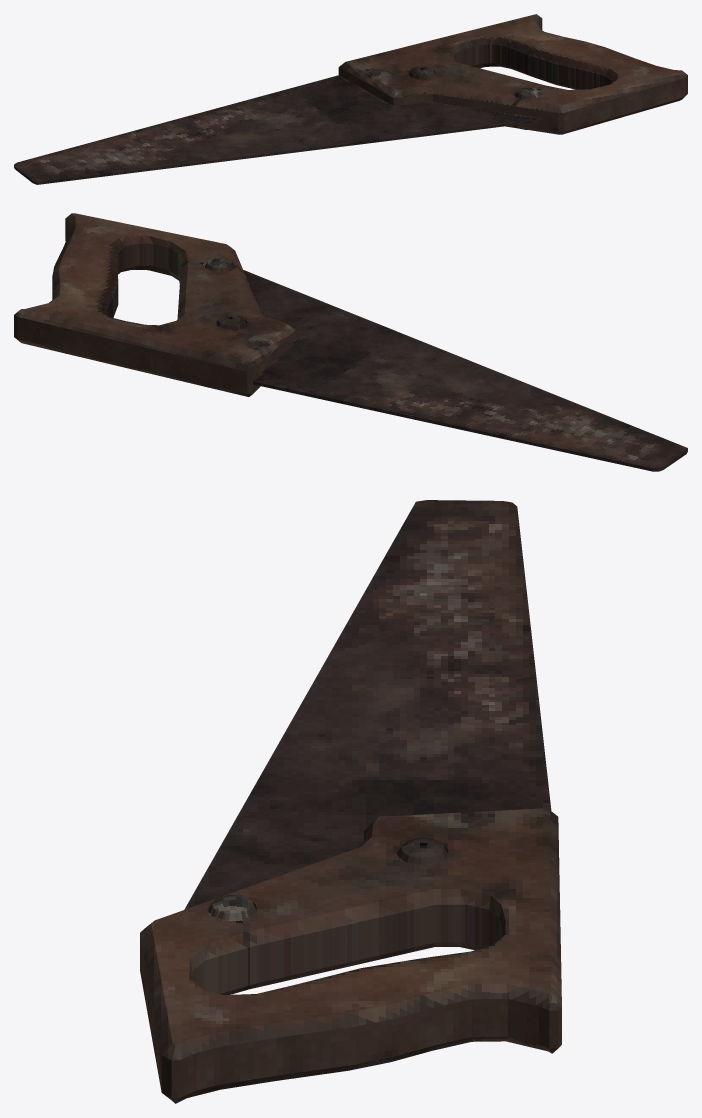
Rendered from hand_saw_1.glb.
3 renders of one model, top to bottom at view 1: azimuth 30°, elevation 25°; view 2: azimuth 150°, elevation 25°; view 3: azimuth 270°, elevation 25°, orthographic. The views are drawn at different scales.
Visible parts, largest first — view 1: hand_saw_1; view 2: hand_saw_1; view 3: hand_saw_1.
Boxes of the visible parts, x1,y1,x2,y2 form: hand_saw_1: (14,14,687,184); hand_saw_1: (14,213,687,471); hand_saw_1: (140,500,561,1103).
Size of the model in its own units: 0.7037 by 0.043 by 0.2175.
Materials: 1 (1 with a texture image).
